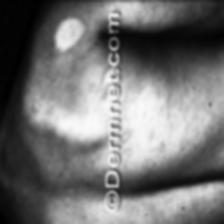Non-Cancerous Skin Condition: (48, 0, 98, 82)
